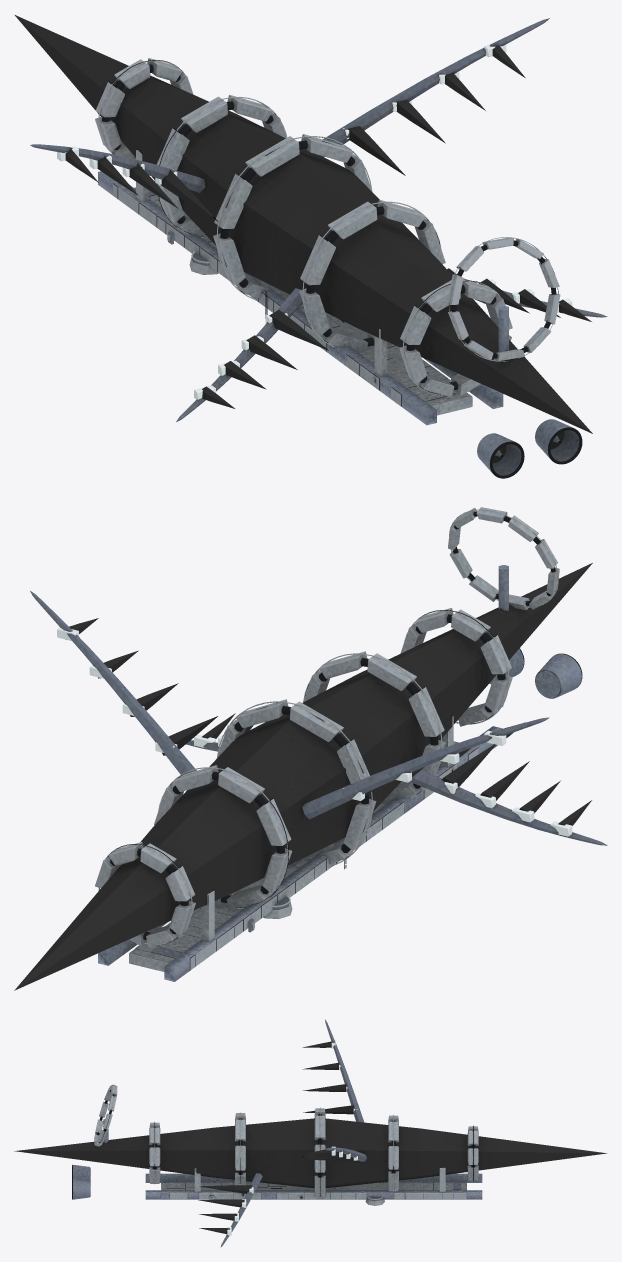
Rendered from glass_wing_hero.glb.
3 views of the same model, one above another, from view 1: azimuth 30°, elevation 25°; view 2: azimuth 150°, elevation 25°; view 3: azimuth 270°, elevation 25° (orthographic). The views are drawn at different scales.
Visible parts, largest first — view 1: HullBaked; view 2: HullBaked; view 3: HullBaked.
Boxes of the visible parts, x1,y1,x2,y2 form: HullBaked: (15, 15, 607, 478); HullBaked: (14, 507, 607, 990); HullBaked: (14, 1019, 606, 1247).
Size of the model in its own units: 30.17 by 12 by 58.2.
Materials: 1 (1 with a texture image).
